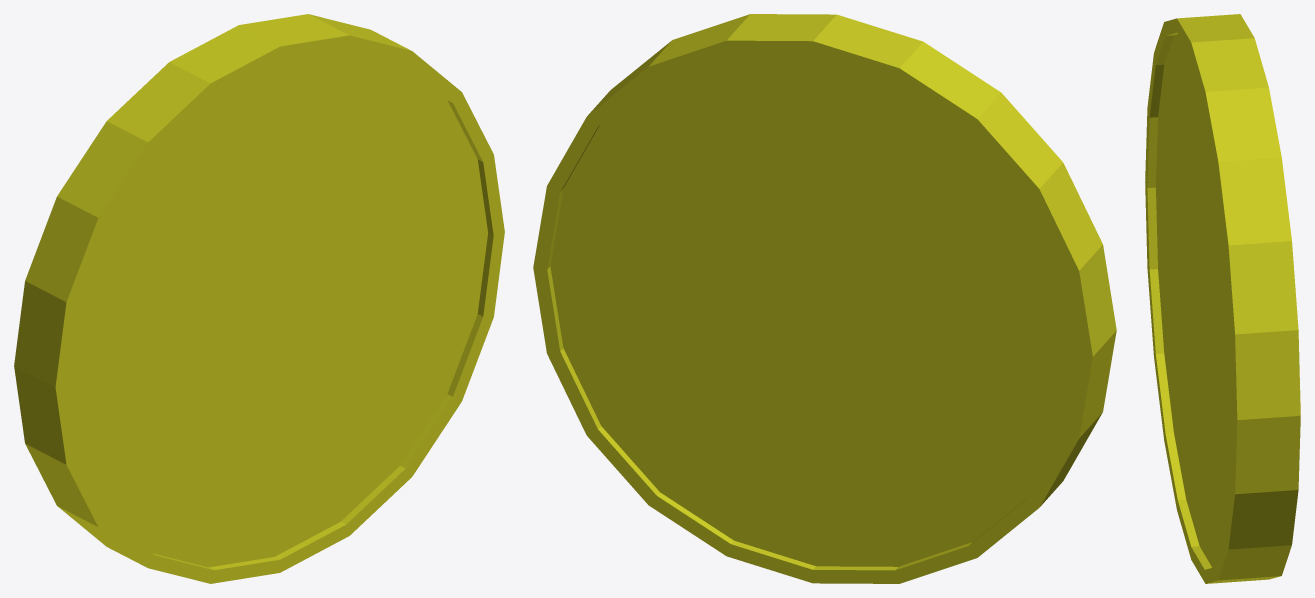
The model's file is Low Poly Coin_000173.obj.
3 renders of one model, left to right at view 1: azimuth 30°, elevation 25°; view 2: azimuth 150°, elevation 25°; view 3: azimuth 270°, elevation 25°, orthographic. The views are drawn at different scales.
Parts seen in each view (by area): view 1: Cylinder; view 2: Cylinder; view 3: Cylinder.
Part boxes in pixels (box(x1,y1,x2,y2)): Cylinder: box(14, 14, 504, 583); Cylinder: box(533, 14, 1116, 583); Cylinder: box(1145, 14, 1300, 583).
Bounding box in the file's own units: 2.01 × 2 × 0.5455.
